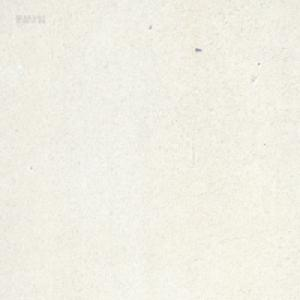Nail: (194, 46, 201, 51)
